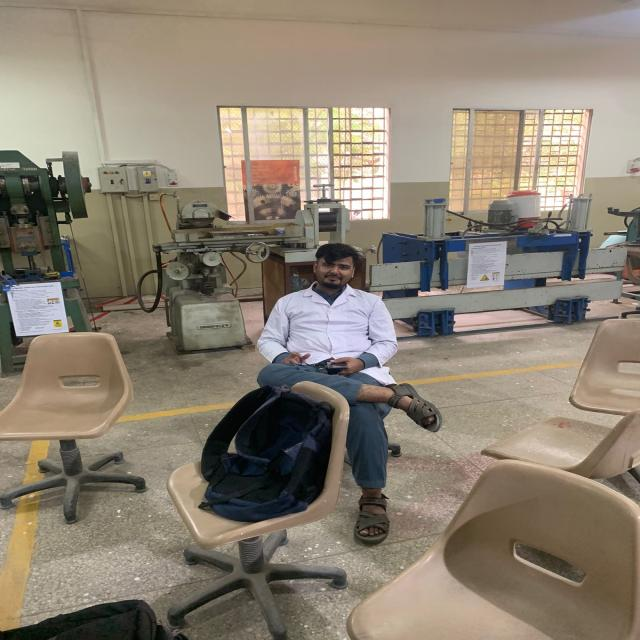labcoat: (256, 279, 400, 365)
